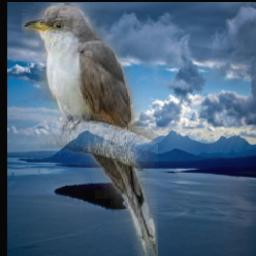Cuckoo: (22, 4, 158, 256)
